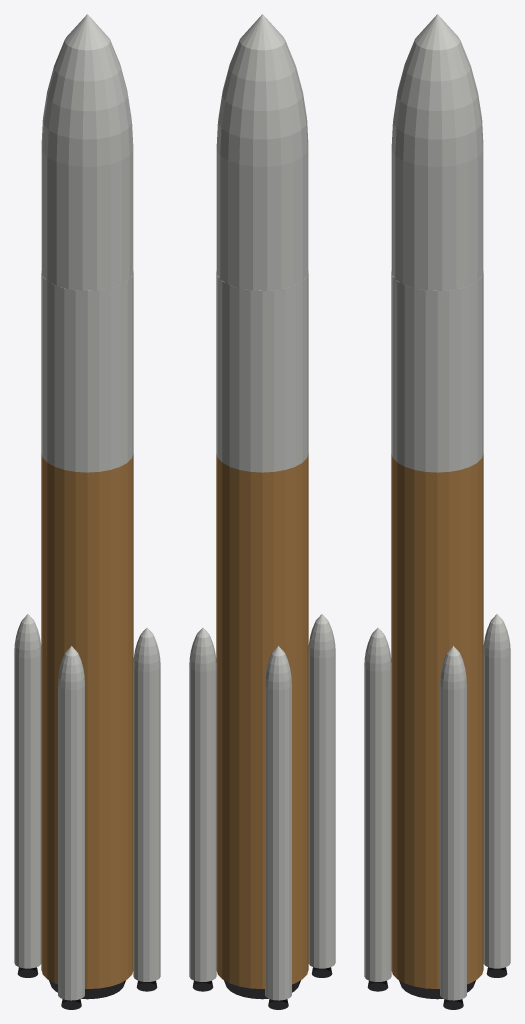
The model's file is rocket-vulcan.glb.
3 views of the same model, side by side, from view 1: azimuth 30°, elevation 25°; view 2: azimuth 150°, elevation 25°; view 3: azimuth 330°, elevation 25° (orthographic).
Bounding box in the file's own units: 6.68 × 62.5 × 6.68.
